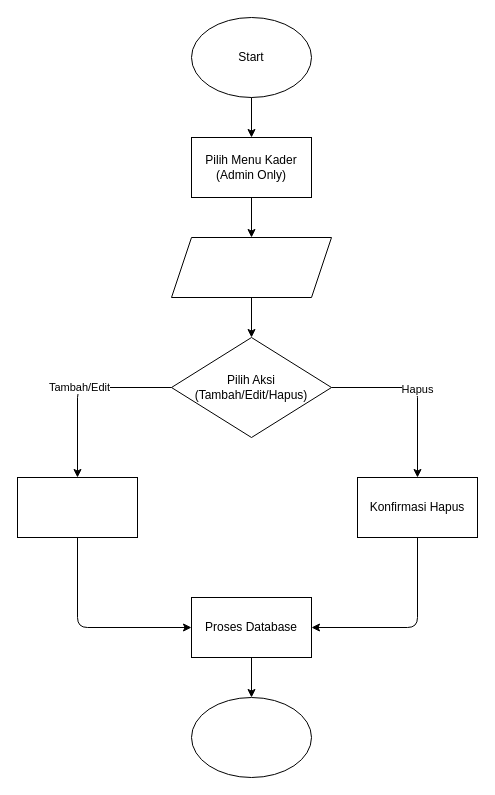
The diagram is 495 pixels wide and 795 high, and some of its shapes have lost their labels. The centre of each missing label's shape, as x and y in pixels:
Form Input/Edit Data Kader & Akun: (77,507)
Stop: (251,737)
Tampilkan List Kader: (251,267)
